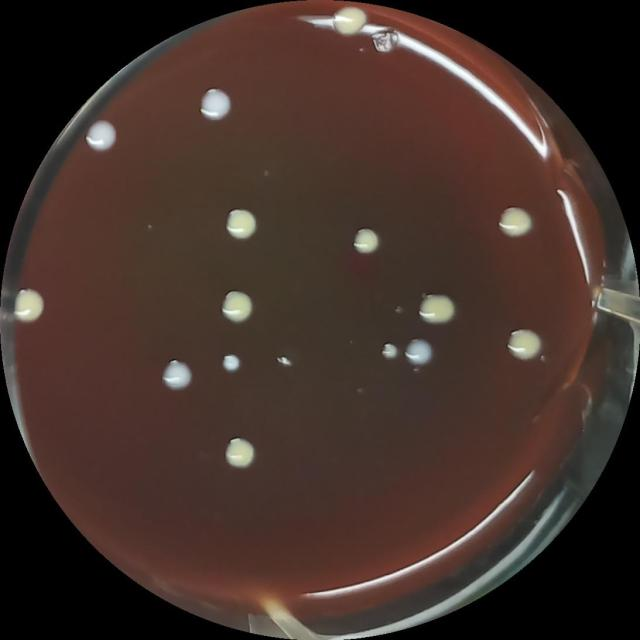Staphylococcus: (6, 282, 50, 328), (503, 323, 546, 369), (219, 205, 263, 248), (329, 2, 372, 45), (413, 288, 458, 329), (195, 82, 238, 124), (216, 286, 258, 328), (494, 202, 536, 244), (156, 357, 197, 398), (220, 433, 259, 474), (81, 117, 120, 156), (346, 223, 384, 262), (402, 335, 437, 373), (218, 350, 246, 378), (379, 338, 401, 364)
